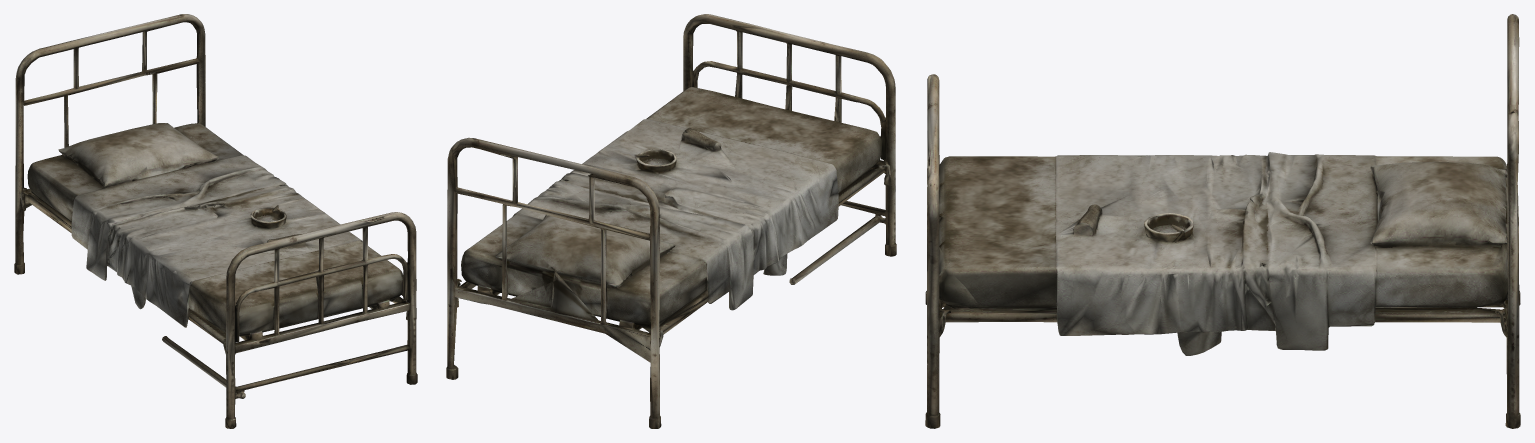
Rendered from hospital bed.fbx.
The picture shows the model from 3 angles, left to right: view 1: azimuth 30°, elevation 25°; view 2: azimuth 150°, elevation 25°; view 3: azimuth 270°, elevation 25°; orthographic projection. The views are drawn at different scales.
Visible parts, largest first — view 1: hospital bed; view 2: hospital bed; view 3: hospital bed.
Boxes of the visible parts, x1,y1,x2,y2 form: hospital bed: [14, 14, 417, 428]; hospital bed: [446, 14, 896, 428]; hospital bed: [925, 14, 1520, 428].
Bounding box in the file's own units: 344 × 377 × 676.
1 material, 1 textured.
